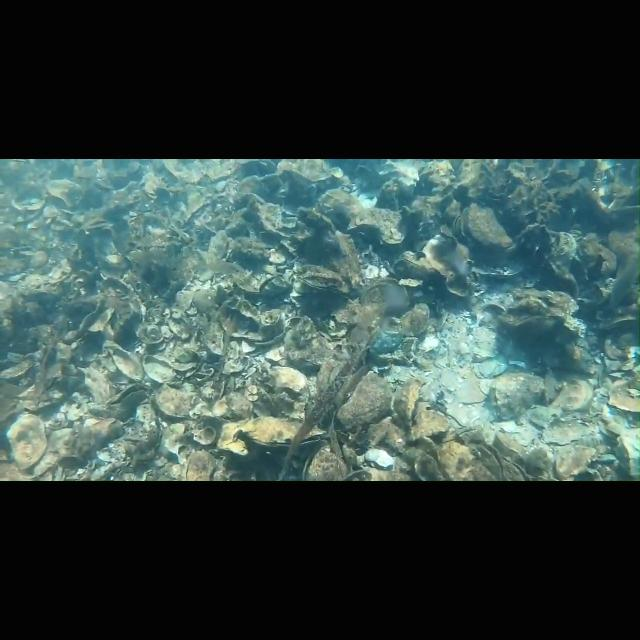Oyster-Closed: (337, 372, 393, 426), (492, 370, 544, 422), (438, 441, 498, 484), (347, 207, 407, 245), (278, 160, 344, 188), (314, 188, 362, 226), (154, 384, 203, 420), (498, 308, 564, 330), (44, 178, 86, 208), (212, 392, 252, 422), (398, 303, 432, 337), (296, 268, 344, 292), (184, 448, 216, 480), (494, 432, 528, 462), (233, 235, 270, 262), (401, 250, 432, 278), (452, 424, 486, 446), (452, 212, 466, 240)
Oyster-Open: (8, 413, 50, 479), (242, 416, 328, 448), (461, 202, 512, 250), (302, 446, 346, 482), (266, 365, 306, 403), (104, 382, 146, 418), (474, 438, 506, 482), (501, 454, 532, 482)
